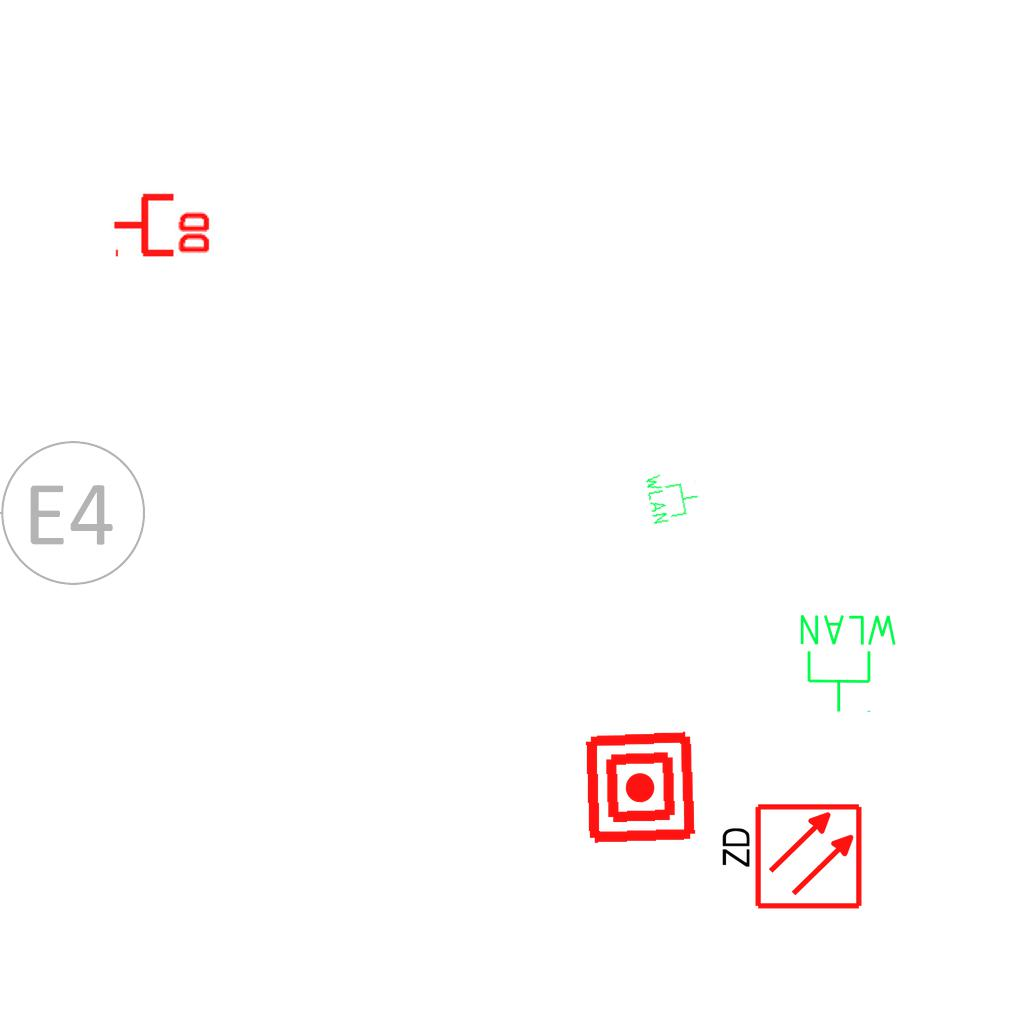Datenanschluss_zweifach: (111, 189, 214, 258)
NAM-Nichtautomatischer_Melder: (582, 729, 699, 846)
WLAN: (796, 611, 901, 715), (642, 465, 704, 527)
ZD_Melder_in_Zwischendecke_mit_Revisionsoeffnung_mind_40_x_40_cm: (715, 801, 864, 915)
